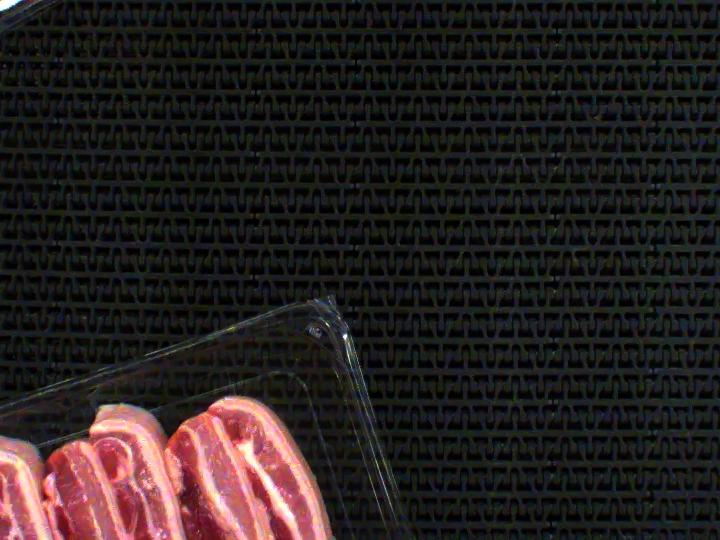packaging-error: (0, 420, 13, 442)
